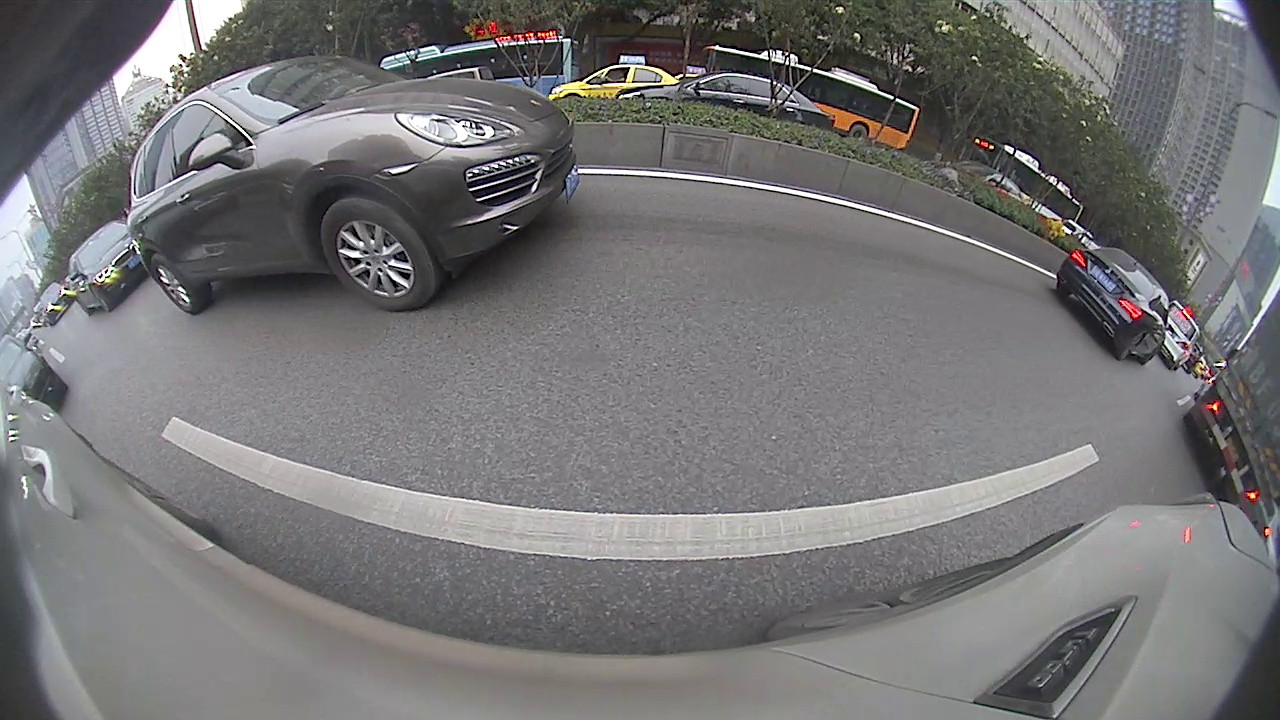car: (127, 55, 577, 317), (1052, 231, 1168, 365), (68, 220, 145, 318), (1162, 301, 1198, 370)
front: (316, 199, 436, 312)
rear: (148, 253, 202, 316), (1114, 332, 1145, 361), (850, 121, 867, 146)
